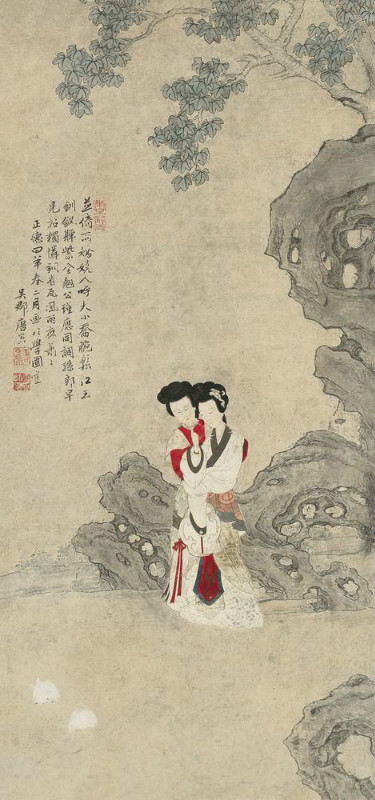decoration: (278, 143, 375, 604), (294, 683, 375, 800), (85, 459, 156, 591)
tree: (156, 4, 375, 117), (163, 61, 237, 194), (71, 3, 139, 116)
woman: (160, 384, 255, 624)
